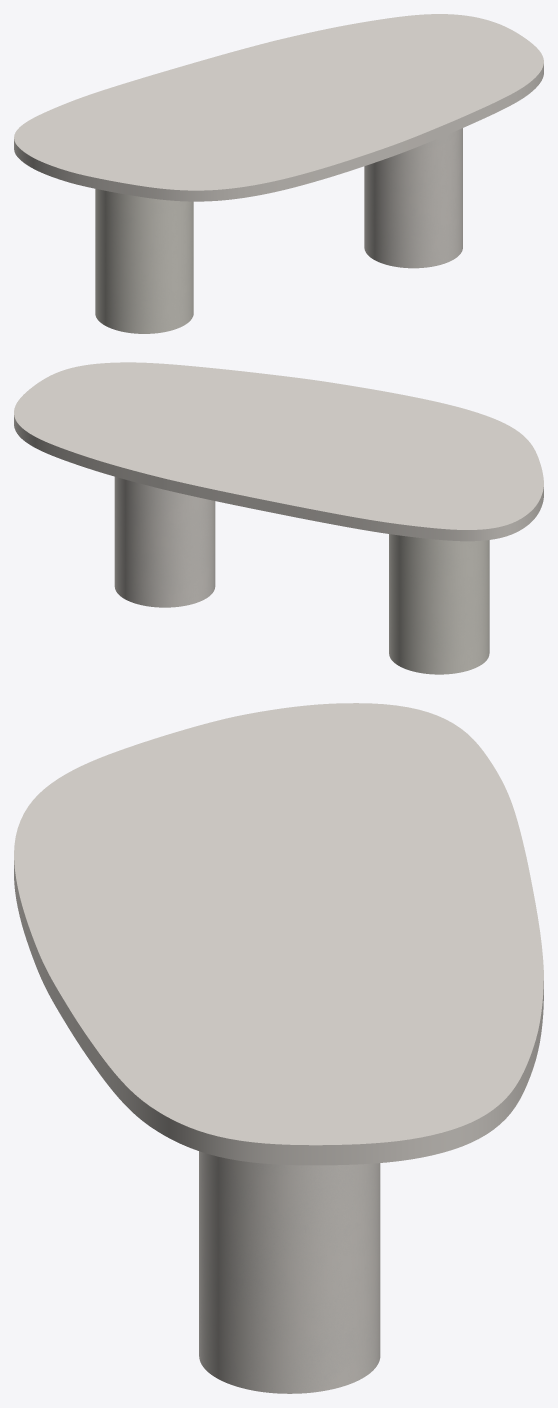
The model's file is pearlwhite_leaf2_standard_stream.glb.
3 renders of one model, top to bottom at view 1: azimuth 30°, elevation 25°; view 2: azimuth 150°, elevation 25°; view 3: azimuth 270°, elevation 25°, orthographic. The views are drawn at different scales.
Parts seen in each view (by area): view 1: standard_leaf2, stream; view 2: standard_leaf2, stream; view 3: standard_leaf2, stream.
Part boxes in pixels (x1,y1,x2,y2): standard_leaf2: [14, 14, 543, 201]; stream: [95, 128, 462, 333]; standard_leaf2: [14, 362, 543, 541]; stream: [114, 476, 489, 674]; standard_leaf2: [14, 703, 543, 1165]; stream: [199, 1151, 380, 1393].
Size of the model in its own units: 7.5 by 2.52 by 3.8.
Materials: 2 (2 with a texture image).
